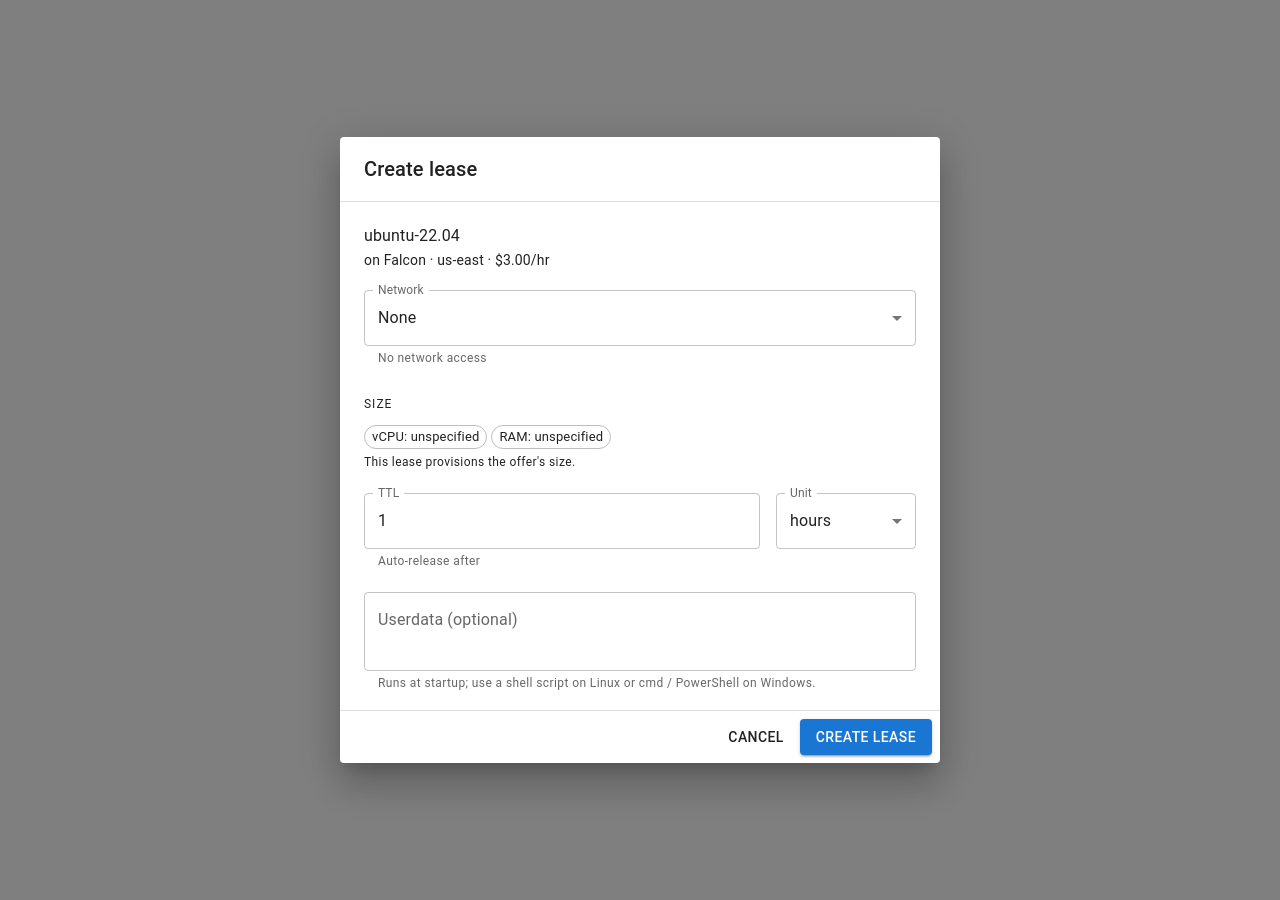
Test: CreateLeaseDialog › surfaces a host_offline failure with a helpful message
Click the button "Create lease" at (866, 737), box [800,718,932,755]
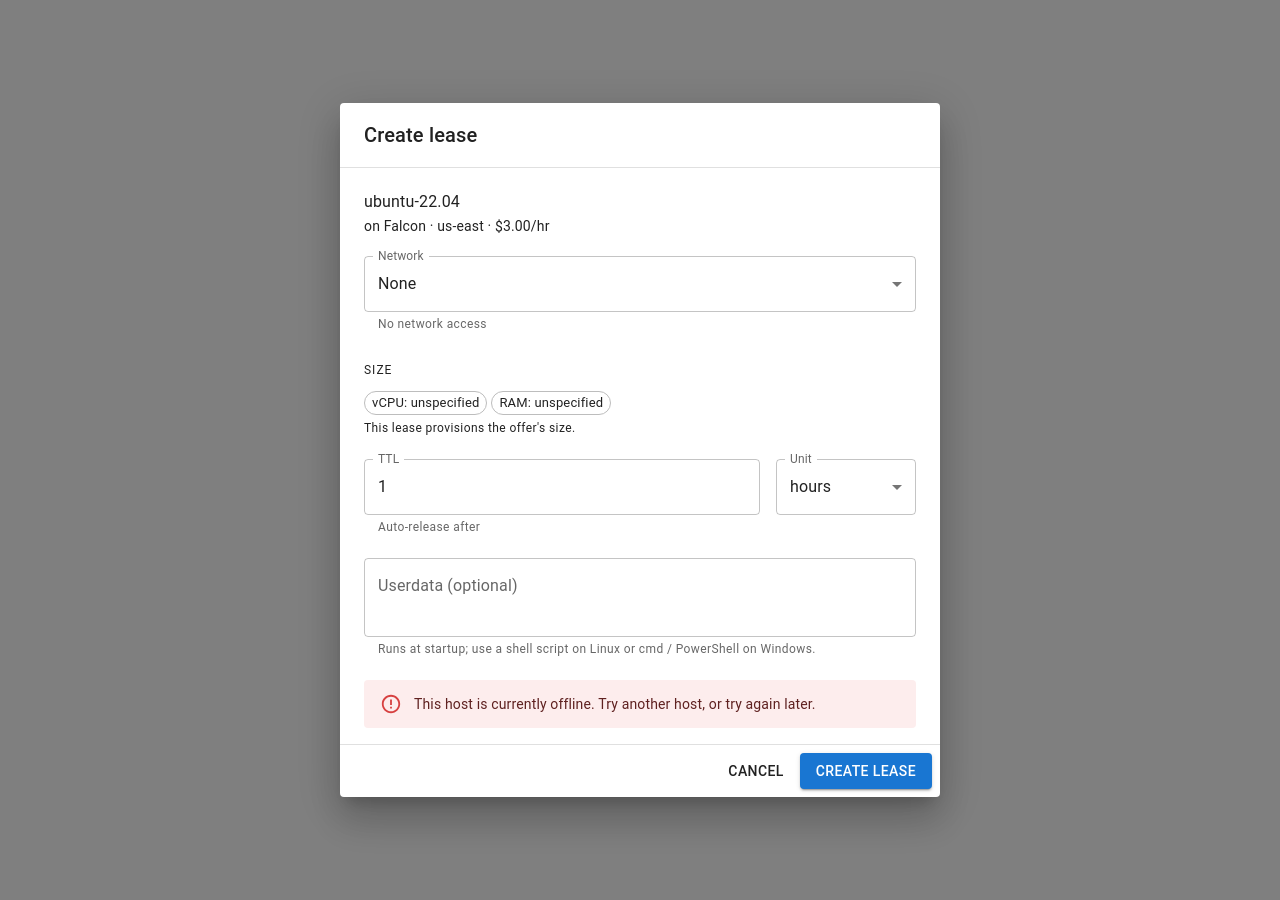
expect the text "currently offline" is shown: met, box [414,696,816,712]
